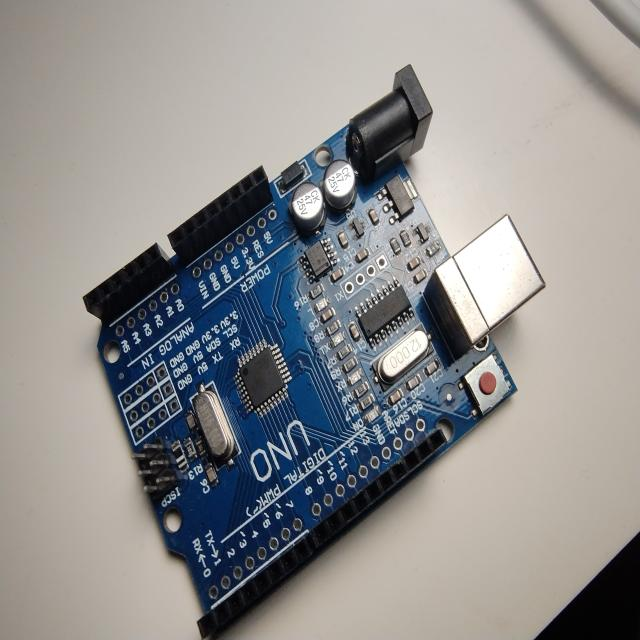arduino: (76, 60, 542, 640)
